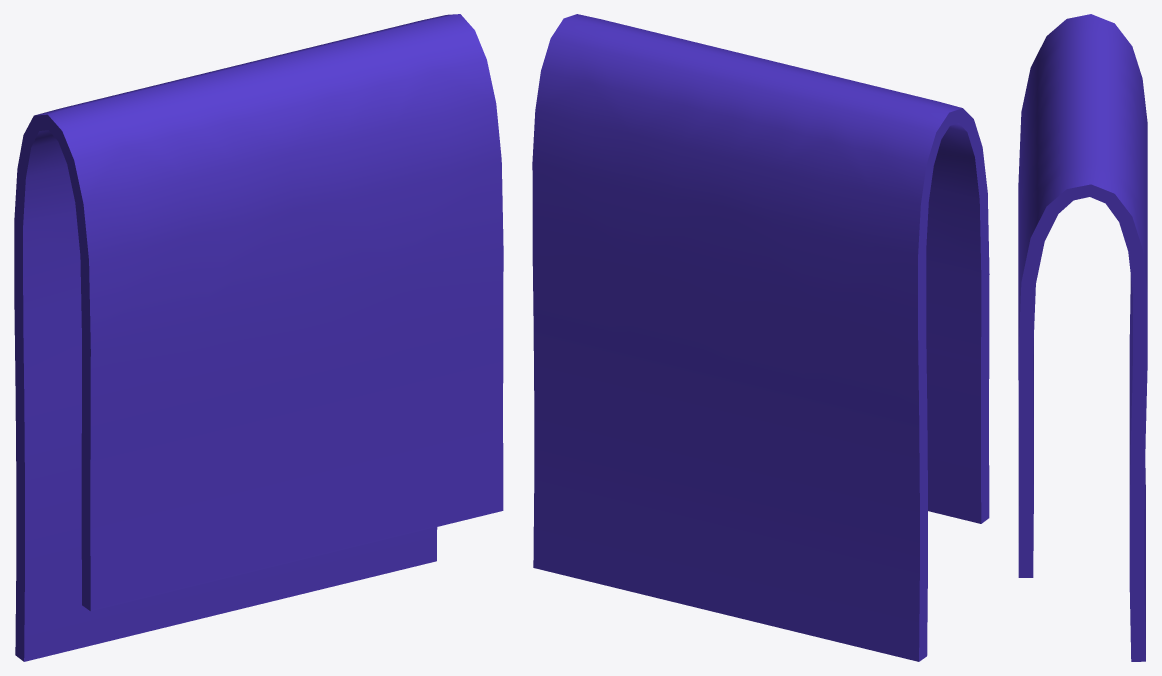
Rendered from towel_short.fbx.
The picture shows the model from 3 angles, left to right: view 1: azimuth 30°, elevation 25°; view 2: azimuth 150°, elevation 25°; view 3: azimuth 270°, elevation 25°; orthographic projection. The views are drawn at different scales.
Visible parts, largest first — view 1: loftedSurface3; view 2: loftedSurface3; view 3: loftedSurface3.
Boxes of the visible parts, x1,y1,x2,y2 form: loftedSurface3: (14, 14, 503, 661); loftedSurface3: (532, 14, 989, 661); loftedSurface3: (1018, 14, 1147, 661).
Bounding box in the file's own units: 0.687 × 0.8995 × 0.2204.
